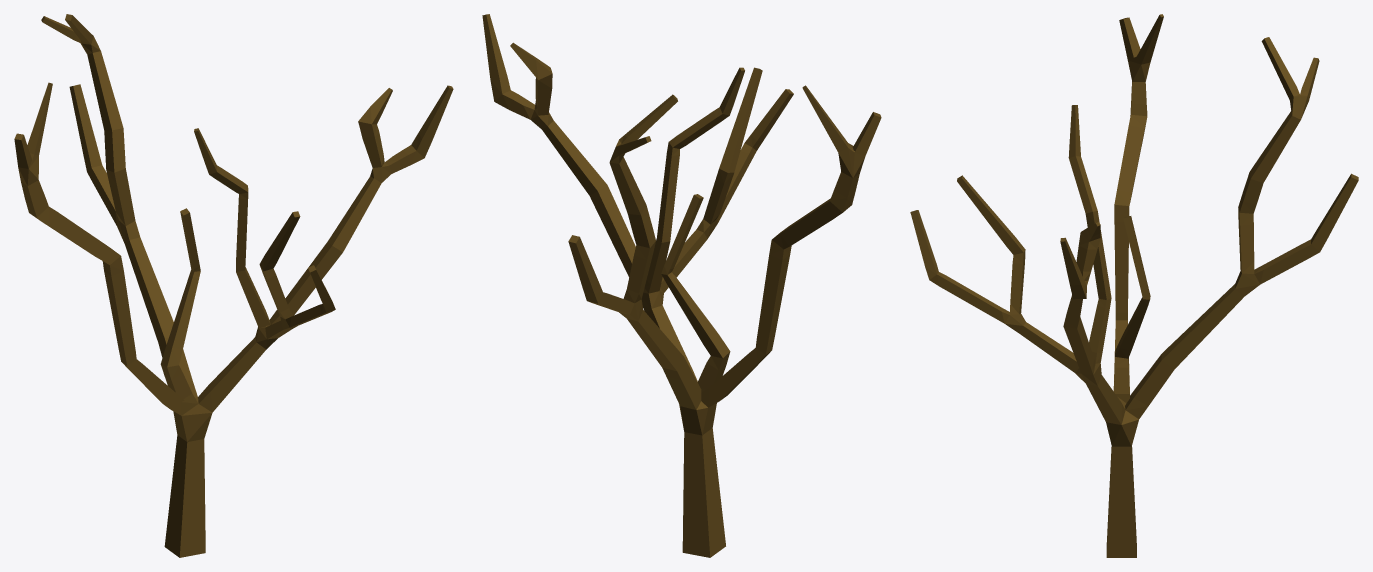
Rendered from fa_teszt2.fbx.
The picture shows the model from 3 angles, left to right: view 1: azimuth 30°, elevation 25°; view 2: azimuth 150°, elevation 25°; view 3: azimuth 270°, elevation 25°; orthographic projection. The views are drawn at different scales.
Parts seen in each view (by area): view 1: Cube; view 2: Cube; view 3: Cube.
Boxes of the visible parts, left/top/right/bottom form: Cube: left=14, top=14, right=453, bottom=557; Cube: left=482, top=14, right=881, bottom=557; Cube: left=910, top=14, right=1358, bottom=557.
Bounding box in the file's own units: 780 × 903 × 744.
